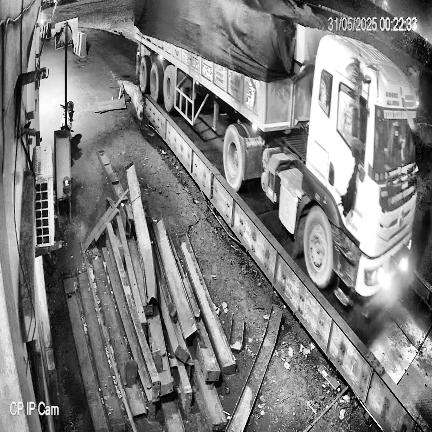tyre: (304, 206, 333, 289), (224, 125, 245, 191), (164, 65, 176, 113), (150, 61, 164, 102), (140, 56, 151, 93)
